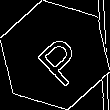P_NW: (24, 24, 86, 86)
